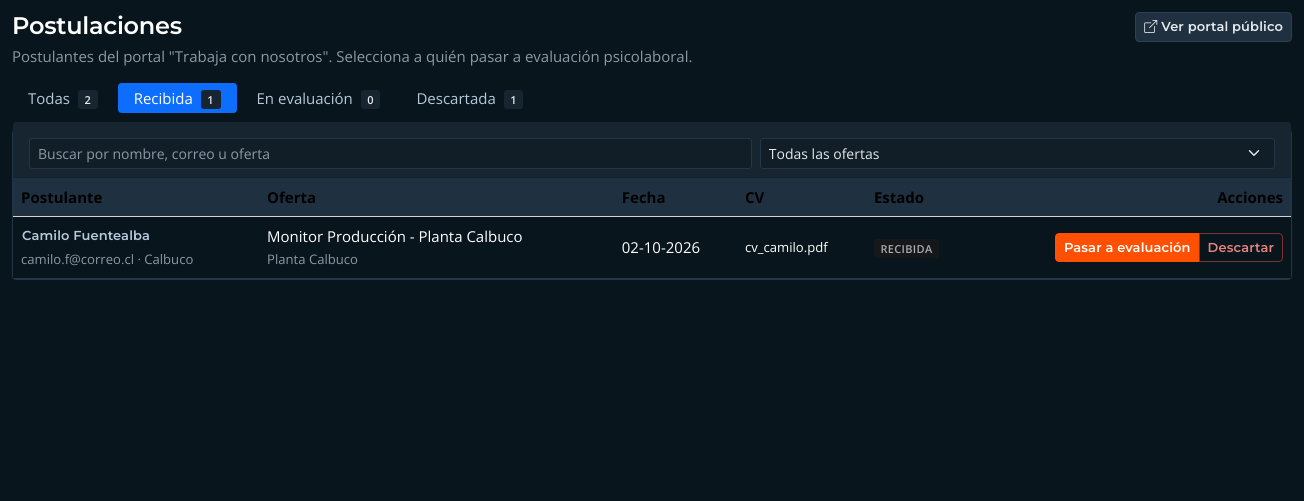
it: Postulaciones (bandeja del analista) › descarta y reactiva una postulación
Step 1. Click the button with aria-label "Descartar a Camilo Fuentealba" → click(1241, 247), box [1199,232,1283,262]
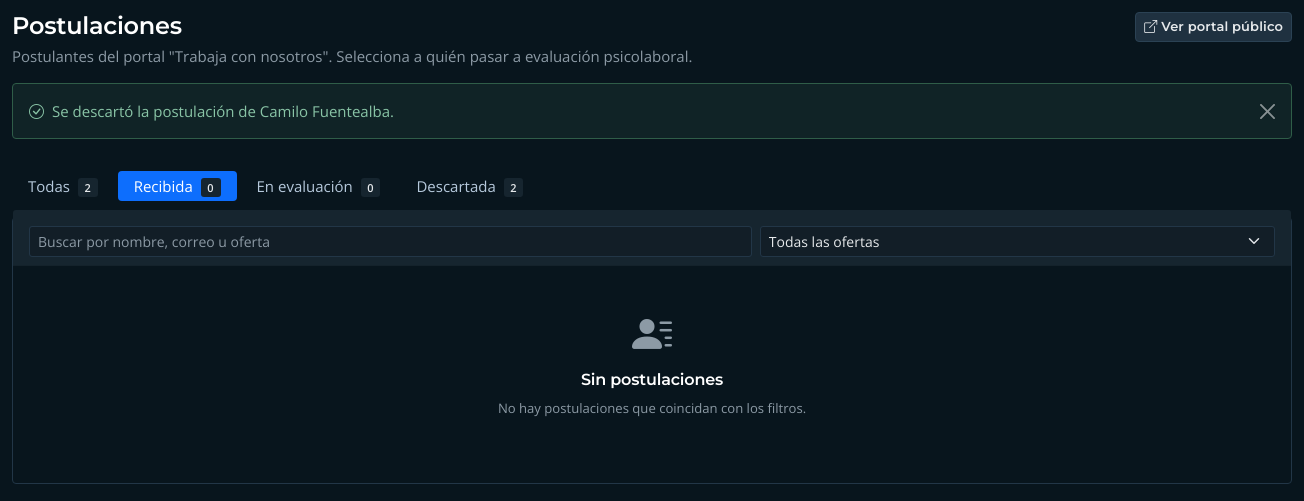
expect the text "Se descartó la postulación de Camilo Fuentealba." is shown: met, box [52,101,394,121]
expect the heading "Sin postulaciones" is shown: met, box [581,370,723,389]
Step 2. Click the button "Descartada 2" → click(470, 186), box [400,171,540,201]
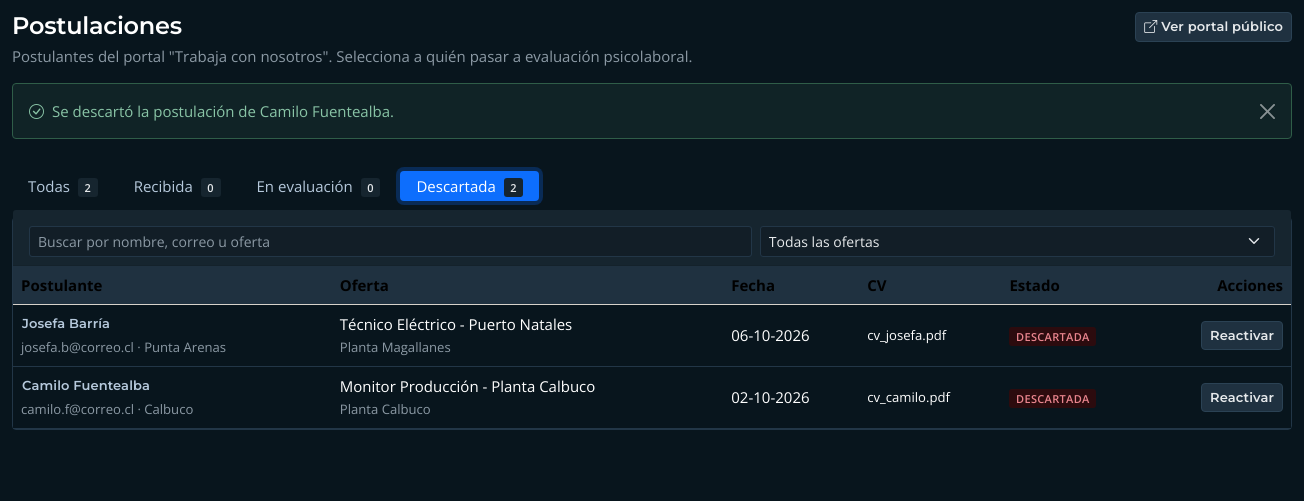
Step 3. Click the button with aria-label "Reactivar a Camilo Fuentealba" → click(1242, 397), box [1201,382,1283,412]
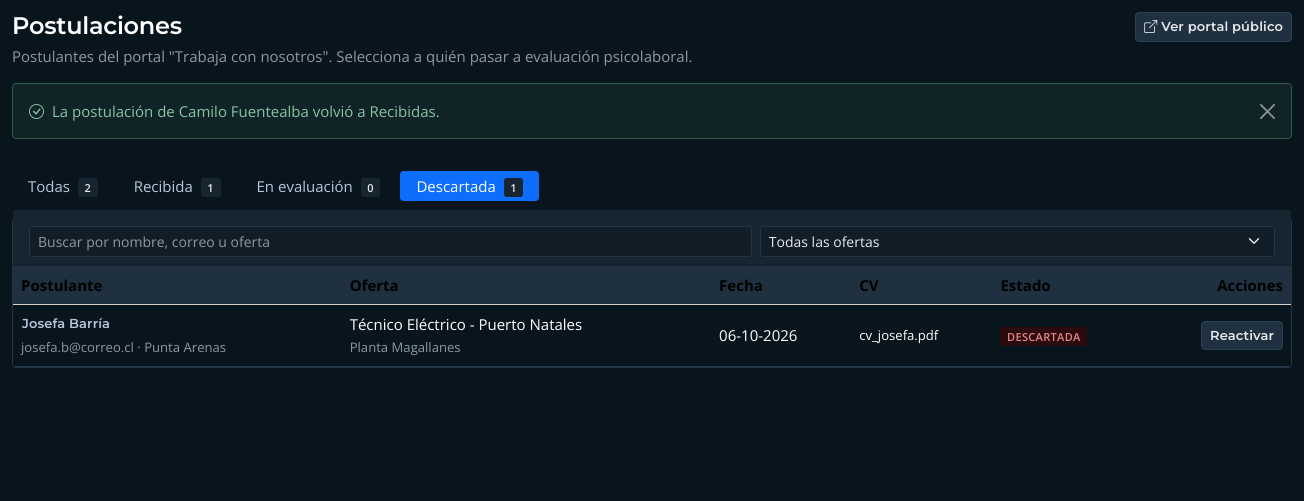
expect the text "La postulación de Camilo Fuentealba volvió a Recibidas." is shown: met, box [52,101,440,121]
